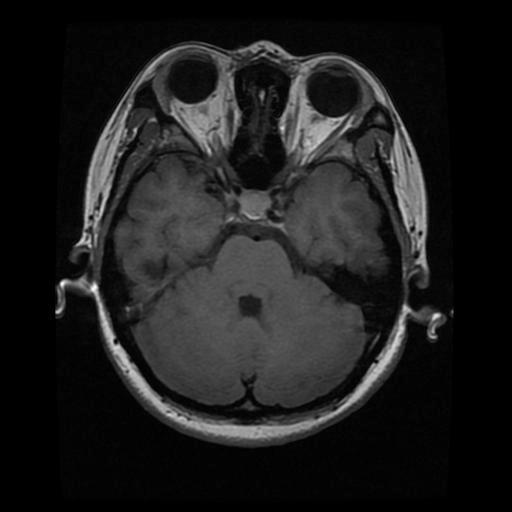Tumour-Pituitary: (236, 189, 271, 225)
